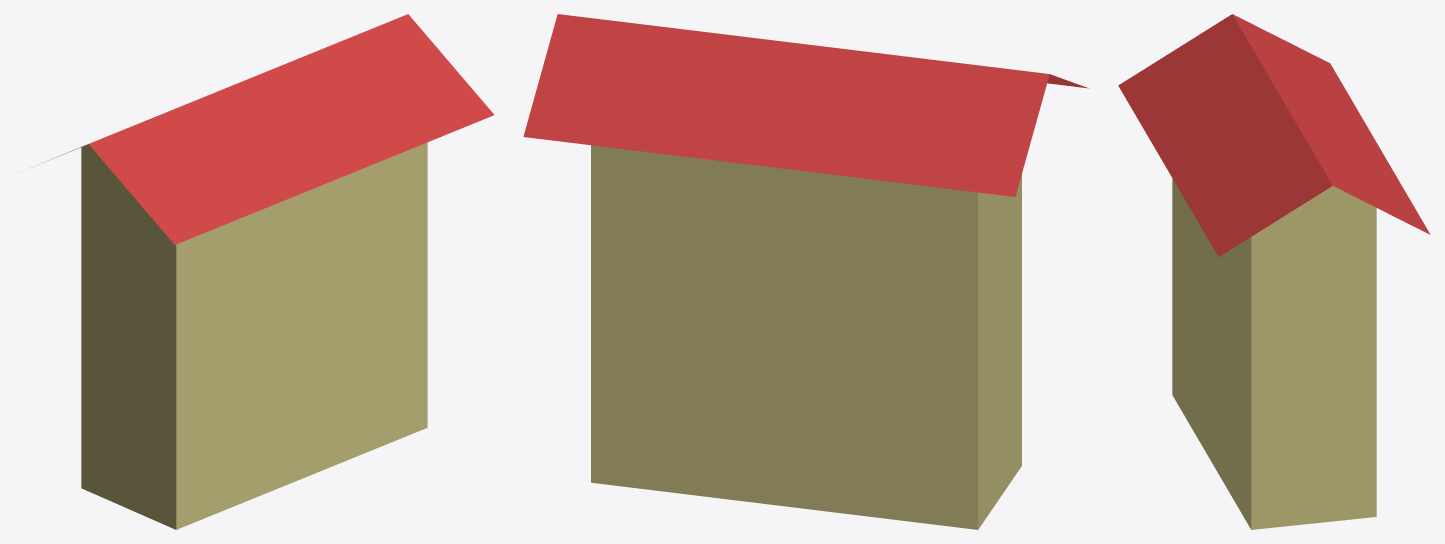
3 views of the same model, side by side, from view 1: azimuth 30°, elevation 25°; view 2: azimuth 150°, elevation 25°; view 3: azimuth 270°, elevation 25° (orthographic). The views are drawn at different scales.
Size of the model in its own units: 7.71 by 5.25 by 6.58.
